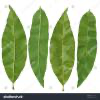Peach leaf: (1, 4, 28, 86), (49, 7, 75, 91), (27, 4, 48, 90), (77, 8, 98, 88)
